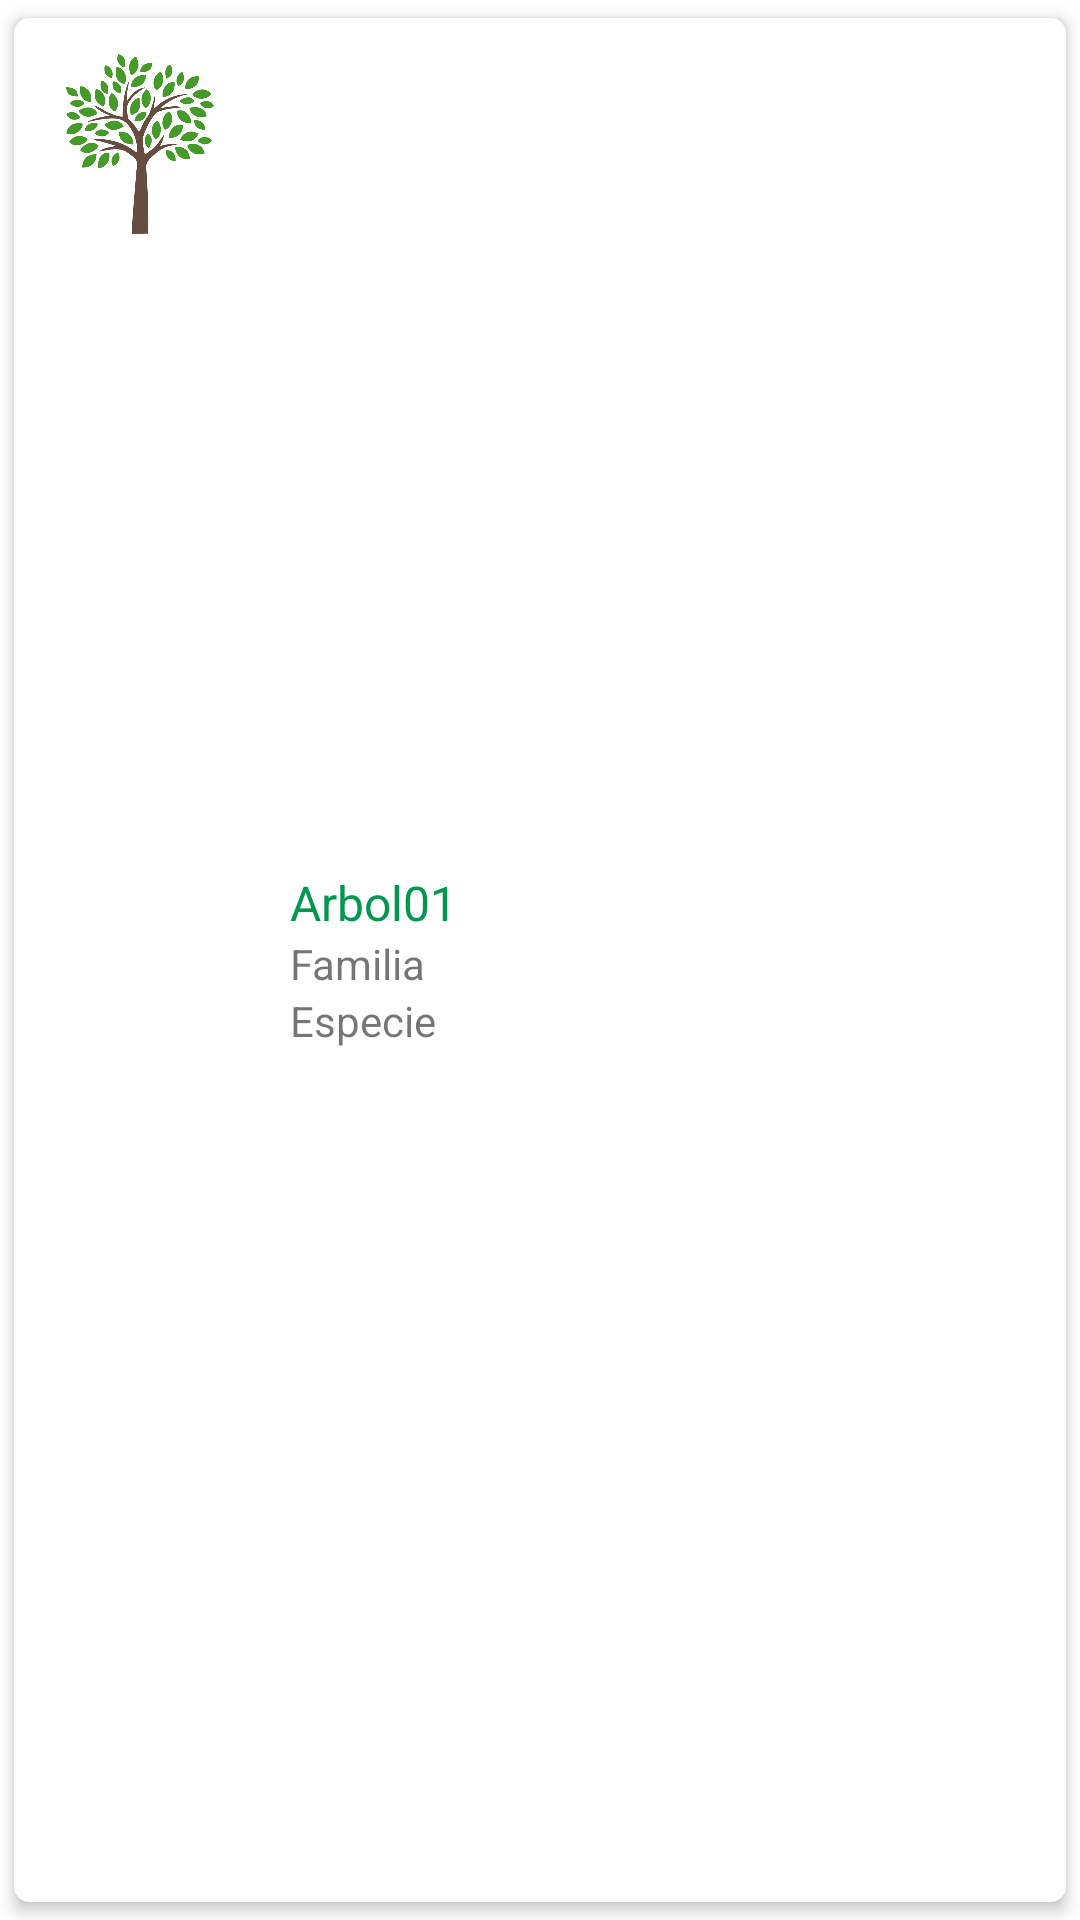

Icon bounding boxes for this 1080*1920 phone screenshot, format (x1, y1, x2, y2):
tree list: (66, 54, 214, 234)
